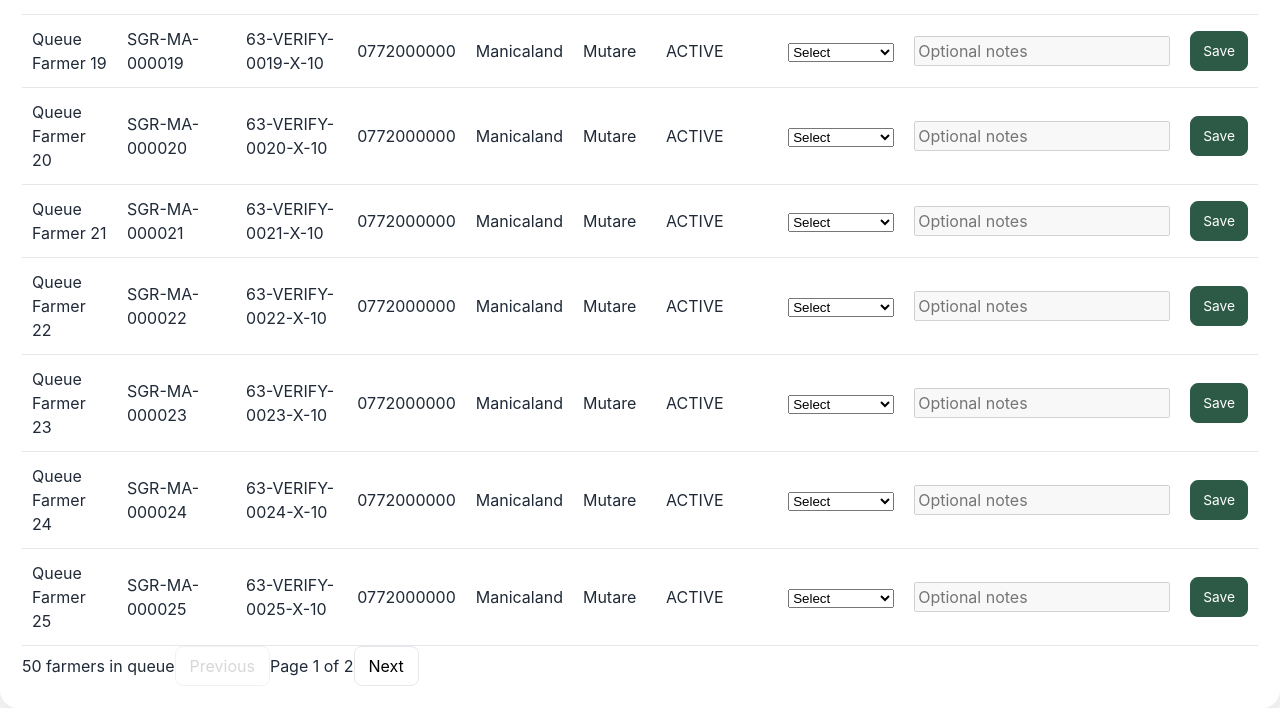
Scenario: VerificationPage pagination › paginates queue data, keeps DRAFT farmers visible, and resets to page 1 when searching
(page scrolled)
Expected: the text "50 farmers in queue" is shown, [22,656,174,676]
Expected: the text "Page 1 of 2" is shown, [270,656,354,676]
Click the button "Next" at (386, 666), box [354,646,419,686]
(page scrolled)
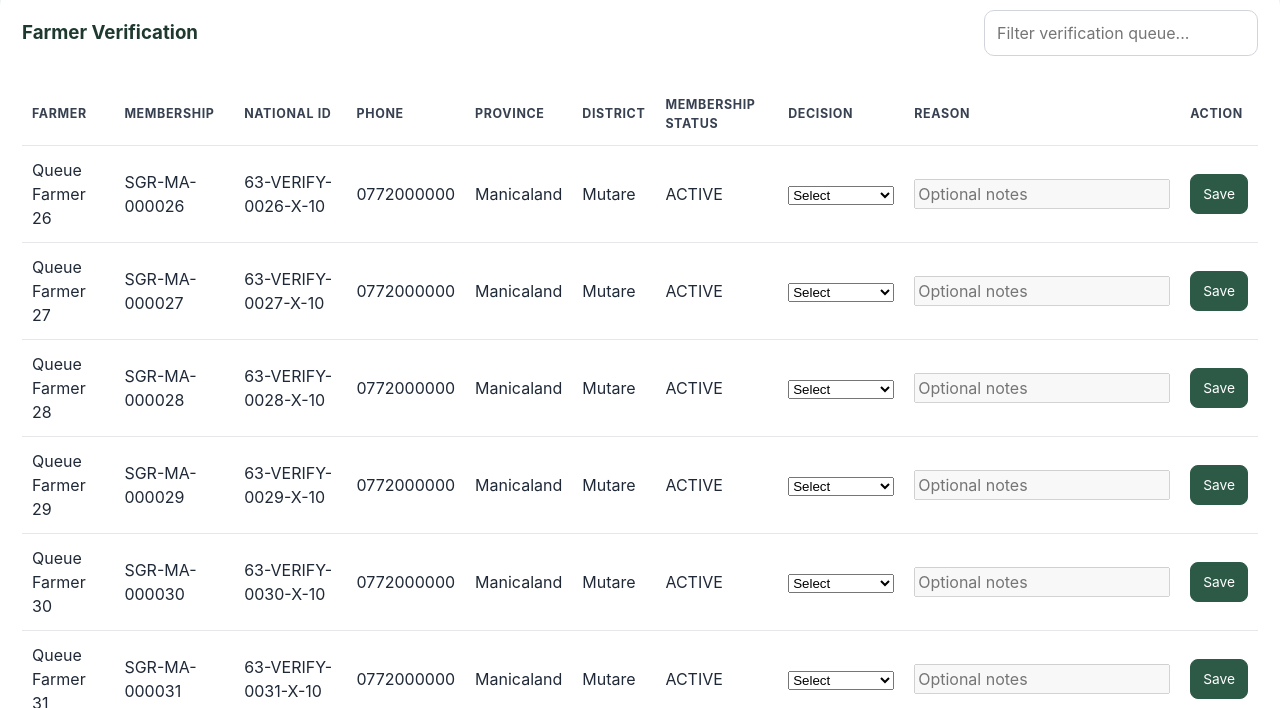
Now the text "Queue Farmer 26" is shown, box [22,146,114,243]
Type "Draft Queue Farmer" into the search field labelled "Filter verification queue..." at (1121, 33), box [984,10,1258,56]
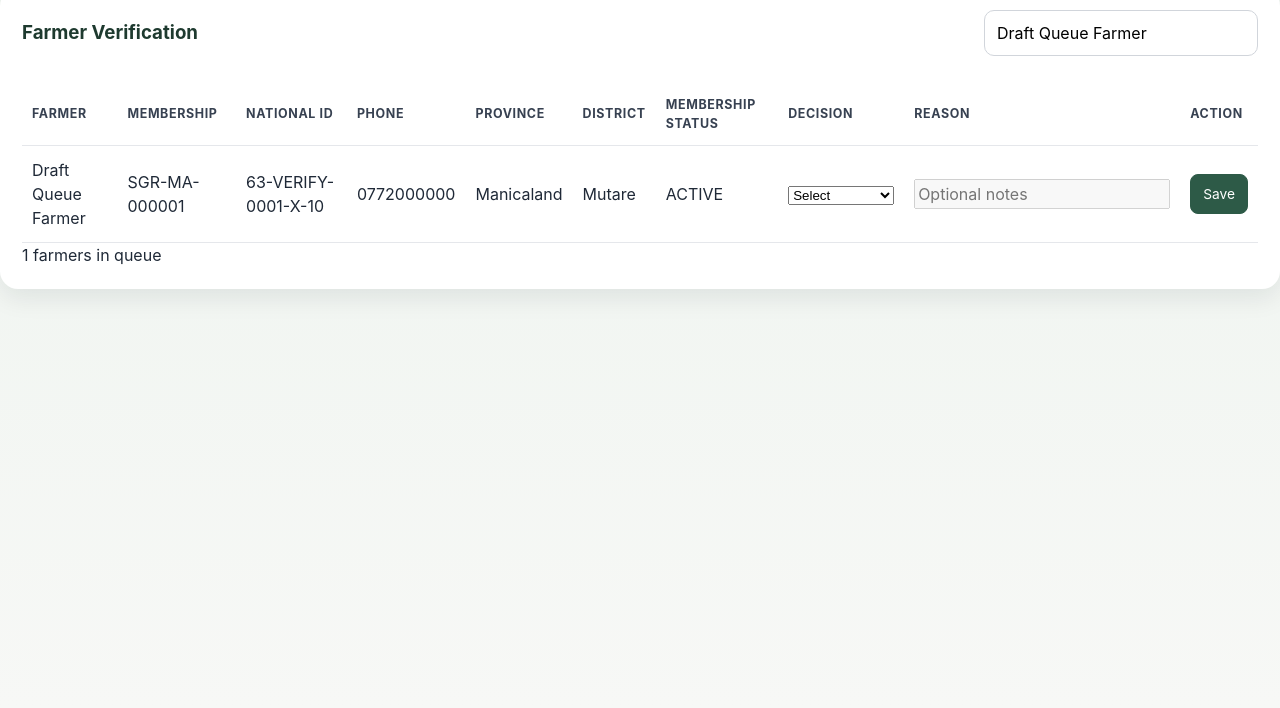
Expected: the button "Previous" is not shown
Now the text "Draft Queue Farmer" is shown, box [22,146,117,243]
Now the text "1 farmers in queue" is shown, box [22,245,162,265]
